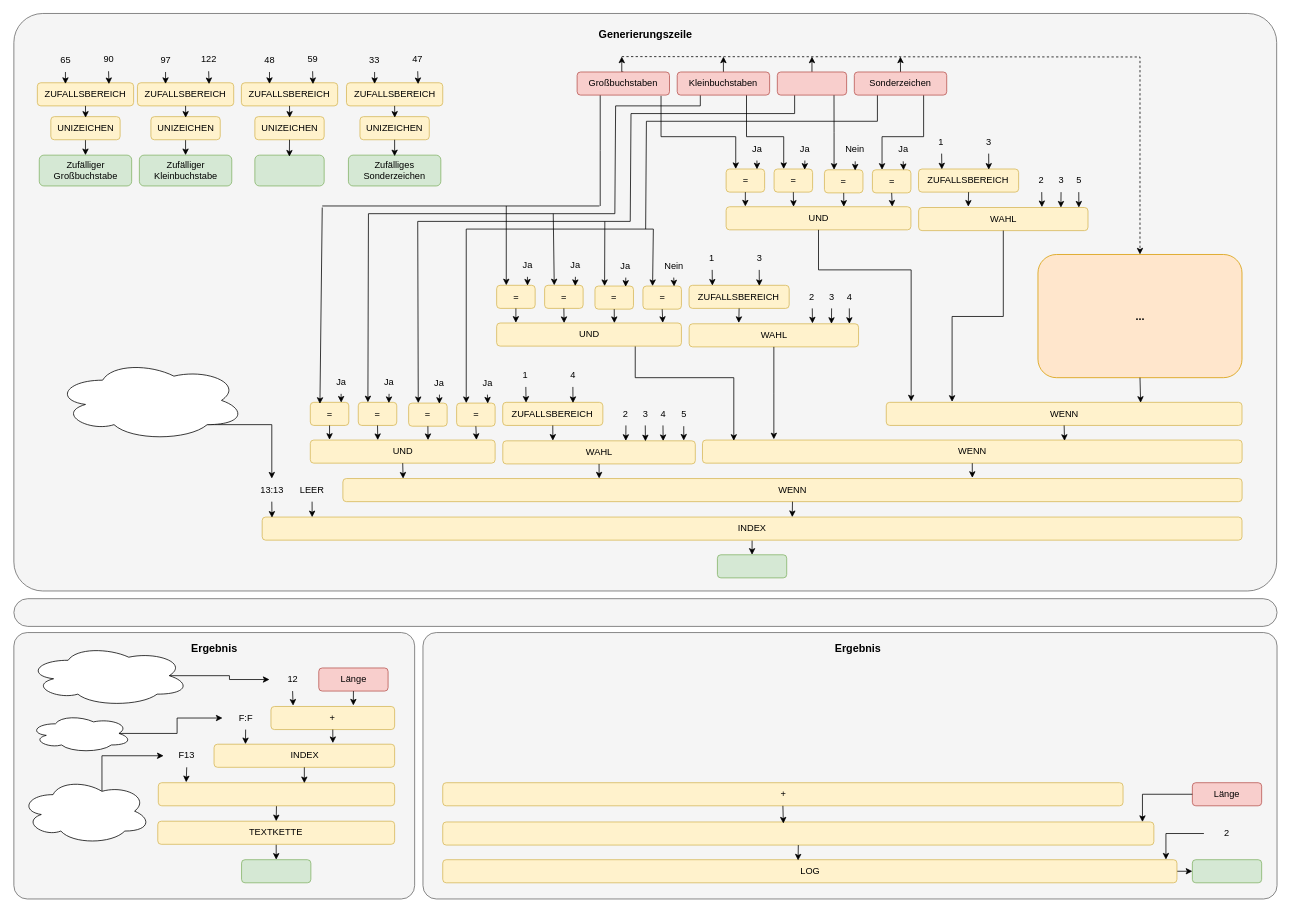
The diagram is 1291 pixels wide and 912 high, and some of its shapes have lost their labels. Here are the shapes that lost their labels. From the top down, the centre of each, then its label:
pixel 812 83: Zahlen
pixel 289 170: Zufällige Zahl
pixel 149 400: abhängig von der Zeile
pixel 752 566: Auswahl
pixel 645 612: Beliebig Wiederholen
pixel 108 675: eine Zeile über der ersten Zelle der Auswahlspalte
pixel 80 733: Auswahlspalte
pixel 85 810: erste Zelle der Auswahlspalte
pixel 276 794: : (Matrix)
pixel 798 833: POTENZ
pixel 276 871: Passwort
pixel 1227 871: Entropie
